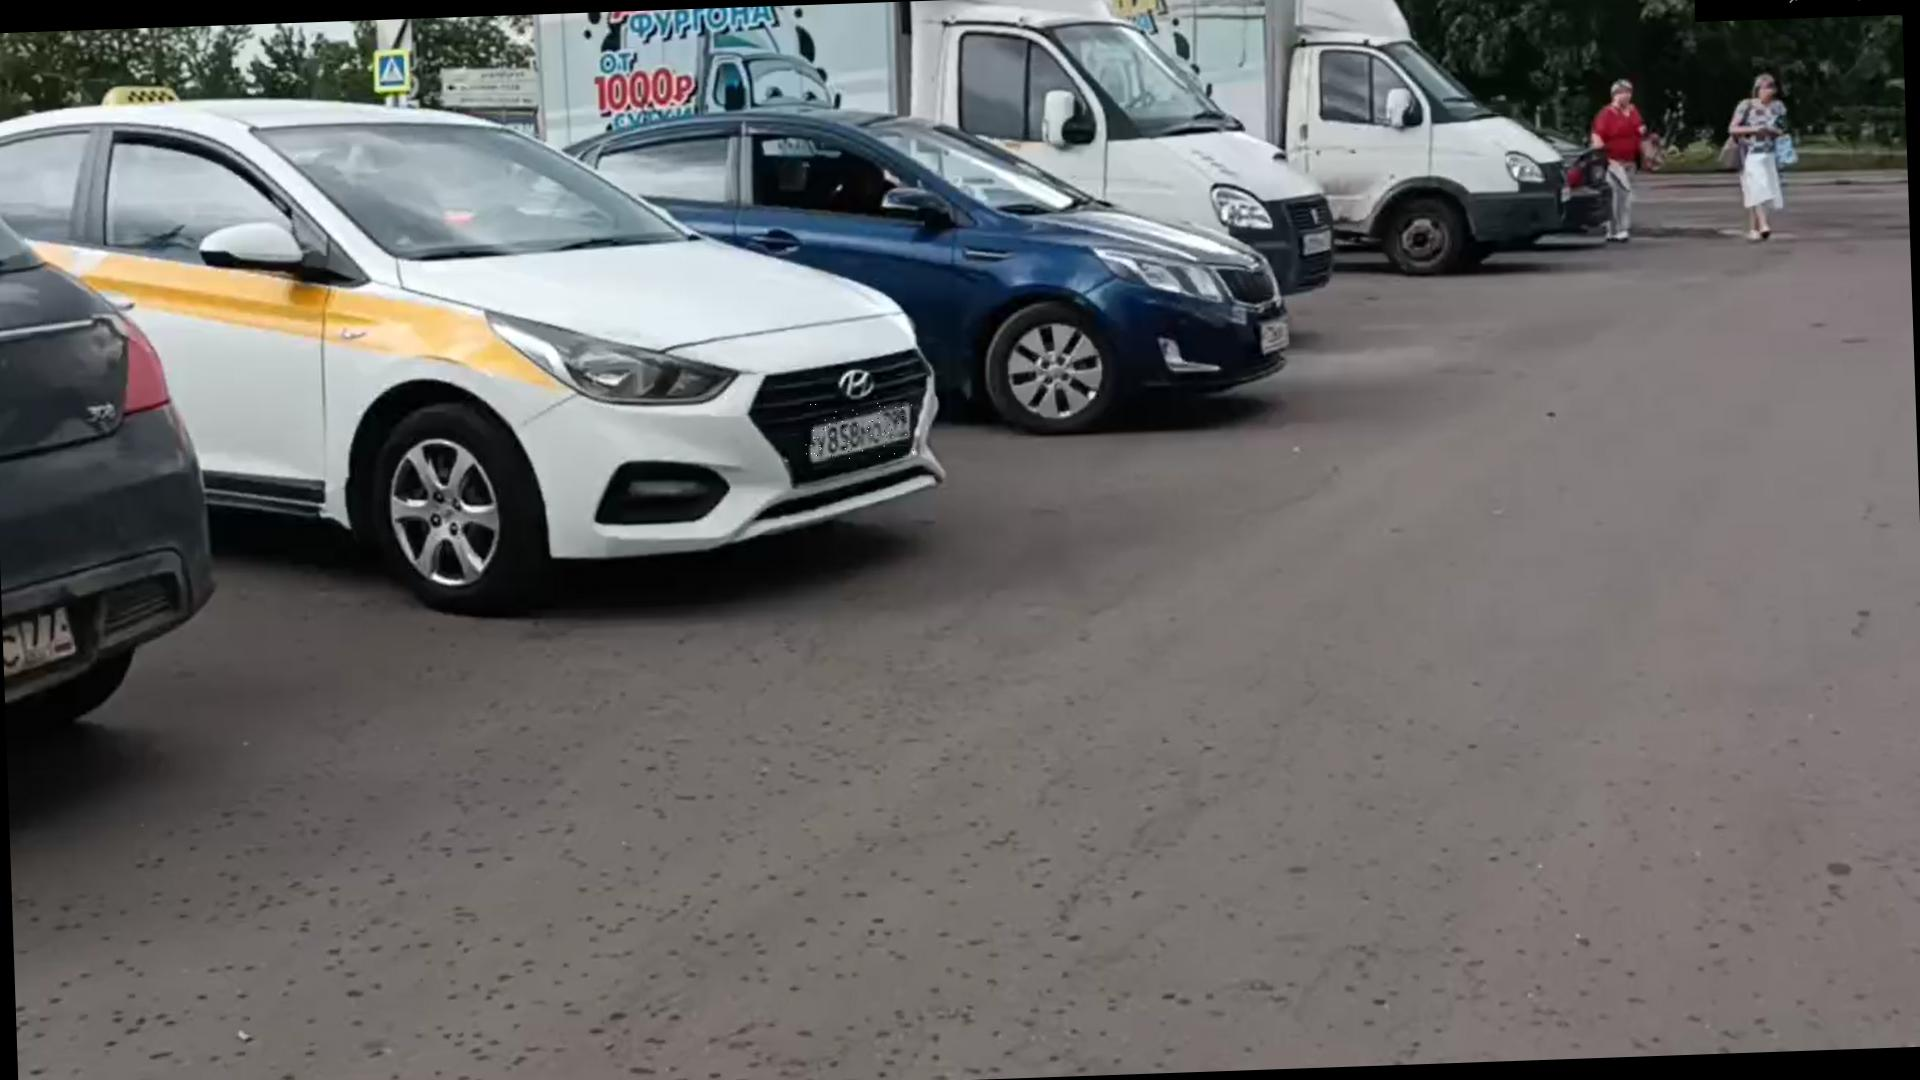plate: (805, 402, 917, 462)
